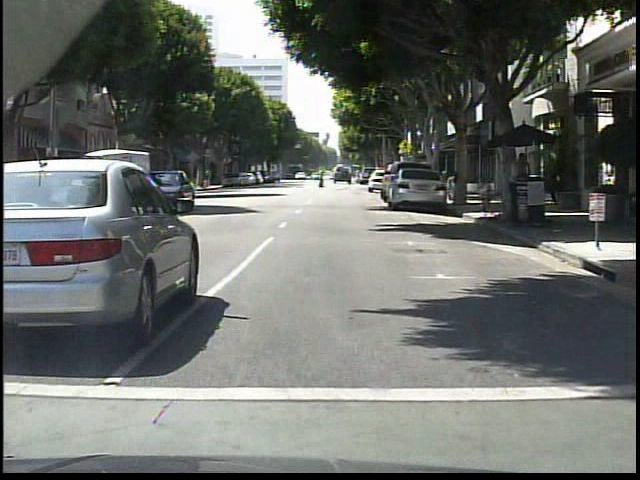person: (508, 151, 534, 226), (316, 168, 326, 188)
